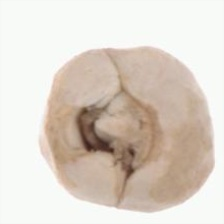L3: (78, 88, 161, 181)
L4: (43, 46, 216, 214)
